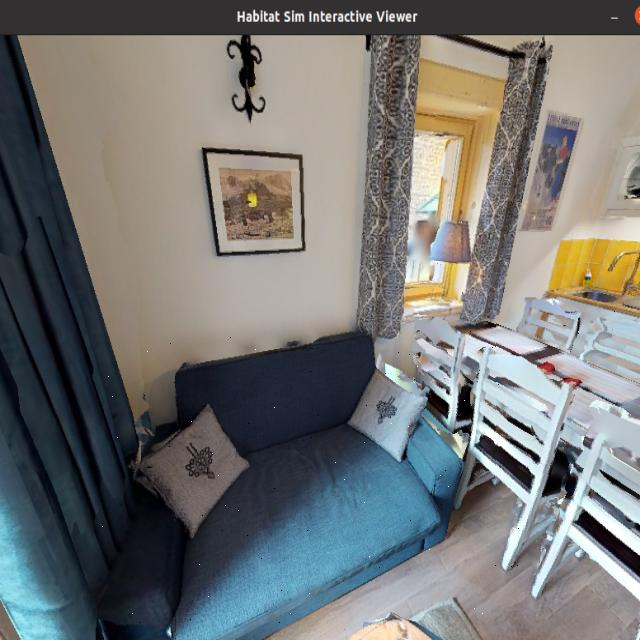chair: (451, 316, 576, 582), (539, 373, 640, 640), (394, 307, 496, 511)
sofa: (93, 336, 493, 626)
table: (410, 294, 640, 557)
